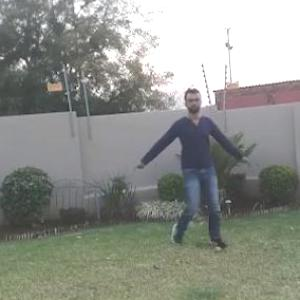land: (136, 95, 239, 230)
